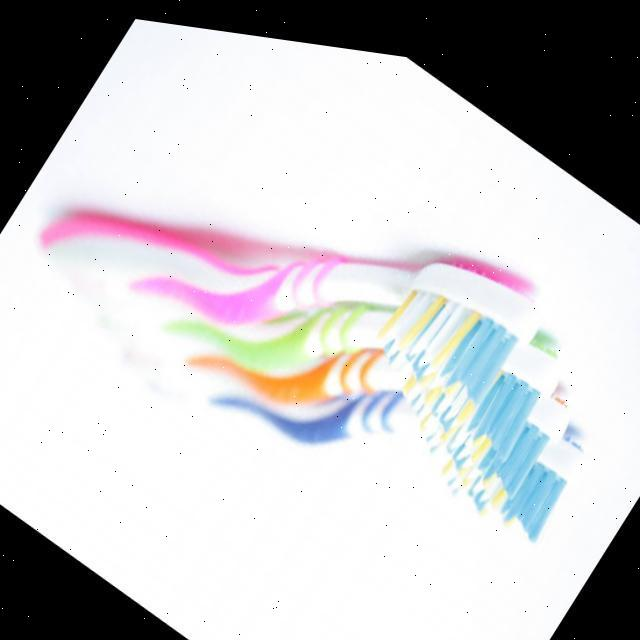toothbrush: (42, 209, 549, 393), (96, 298, 561, 442), (173, 374, 585, 528), (131, 337, 567, 478)
